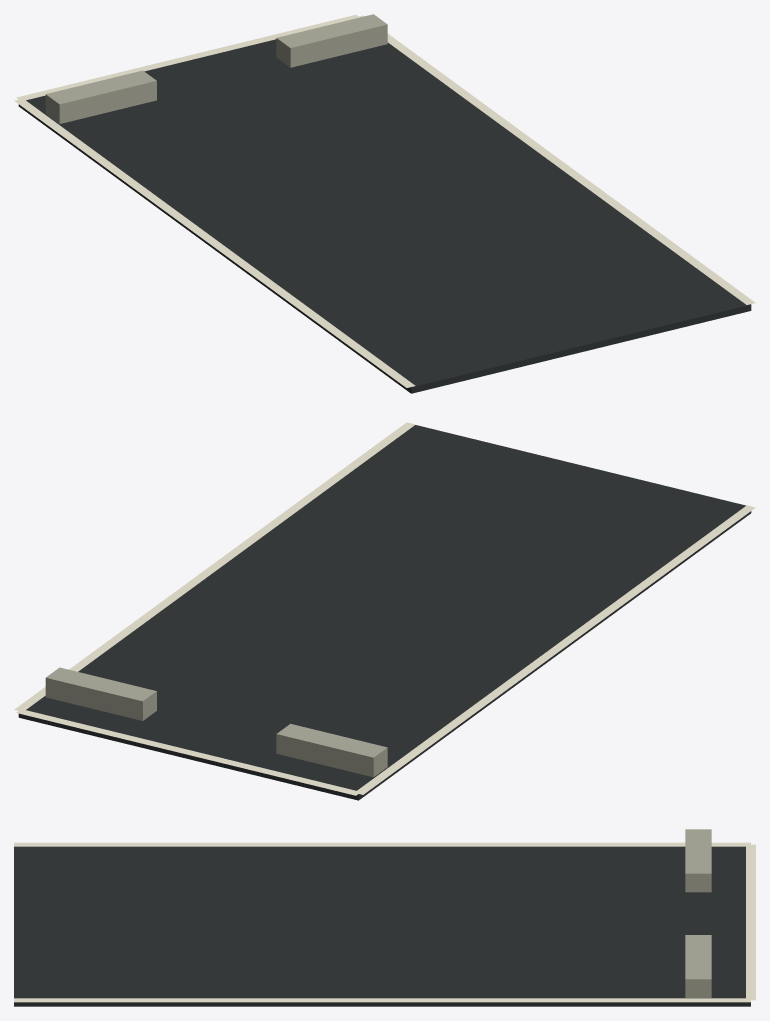
Rendered from ParkingBay.obj.
3 renders of one model, top to bottom at view 1: azimuth 30°, elevation 25°; view 2: azimuth 150°, elevation 25°; view 3: azimuth 270°, elevation 25°, orthographic. The views are drawn at different scales.
Visible parts, largest first — view 1: ParkingBay; view 2: ParkingBay; view 3: ParkingBay.
Part boxes in pixels (x1,y1,x2,y2): ParkingBay: [14, 14, 755, 393]; ParkingBay: [14, 422, 755, 800]; ParkingBay: [14, 829, 755, 1006].
Size of the model in its own units: 2.88 by 0.205 by 5.64.
